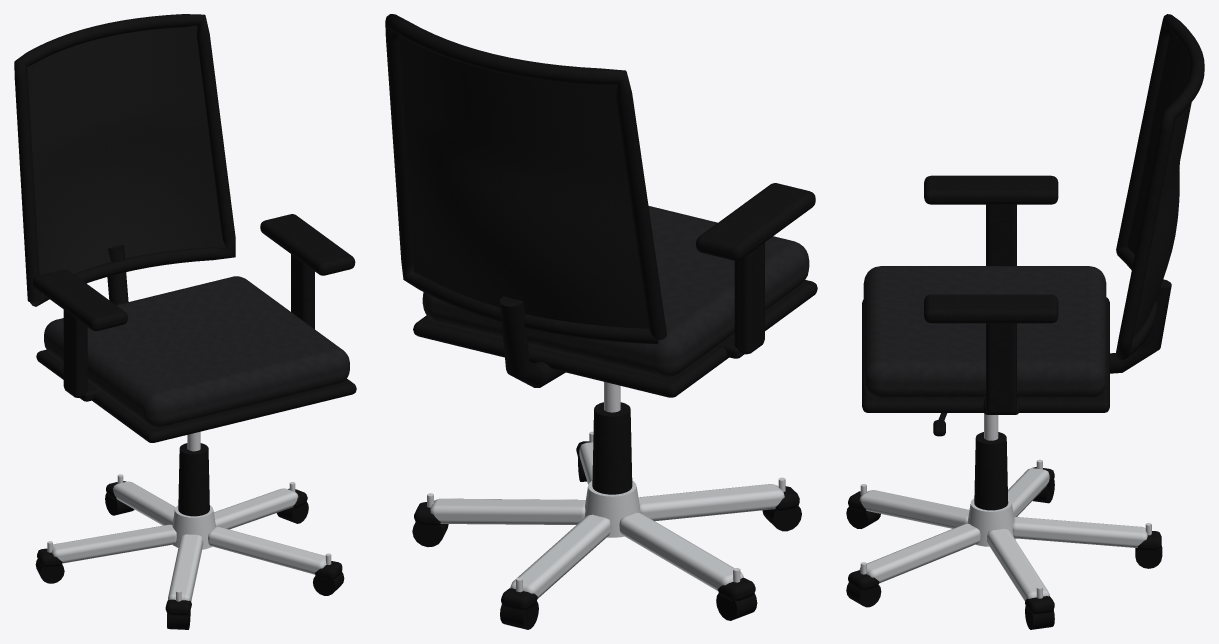
File: OfficeChair.obj
3 renders of one model, left to right at view 1: azimuth 30°, elevation 25°; view 2: azimuth 150°, elevation 25°; view 3: azimuth 270°, elevation 25°, orthographic. The views are drawn at different scales.
Visible parts, largest first — view 1: Mesh, Fabric, PlasticBlack, Base, ArmPad, Rubber, Chrome; view 2: Mesh, PlasticBlack, Fabric, Base, ArmPad, Rubber, Chrome; view 3: Fabric, PlasticBlack, Base, ArmPad, Mesh, Rubber, Chrome.
Part boxes in pixels (x1,y1,x2,y2): Mesh: (27,25,225,275); Fabric: (44,276,349,427); PlasticBlack: (14,14,356,615); Base: (51,481,326,601); ArmPad: (33,214,355,331); Rubber: (35,493,344,629); Chrome: (47,431,331,601); Mesh: (398,34,648,328); PlasticBlack: (385,14,817,610); Fabric: (422,206,809,377); Base: (430,442,784,598); ArmPad: (696,183,815,260); Rubber: (412,458,801,629); Chrome: (427,382,785,592); Fabric: (863,266,1106,398); PlasticBlack: (848,14,1204,614); Base: (859,468,1147,601); ArmPad: (924,175,1058,323); Mesh: (1127,31,1191,337); Rubber: (846,479,1162,629); Chrome: (860,413,1151,598).
Size of the model in its own units: 0.6432 by 1.07 by 0.694.
7 materials, 4 textured.
